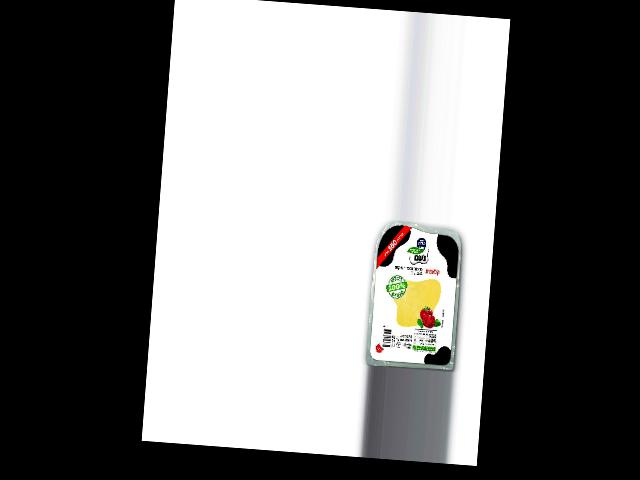cheese: (365, 218, 464, 371)
